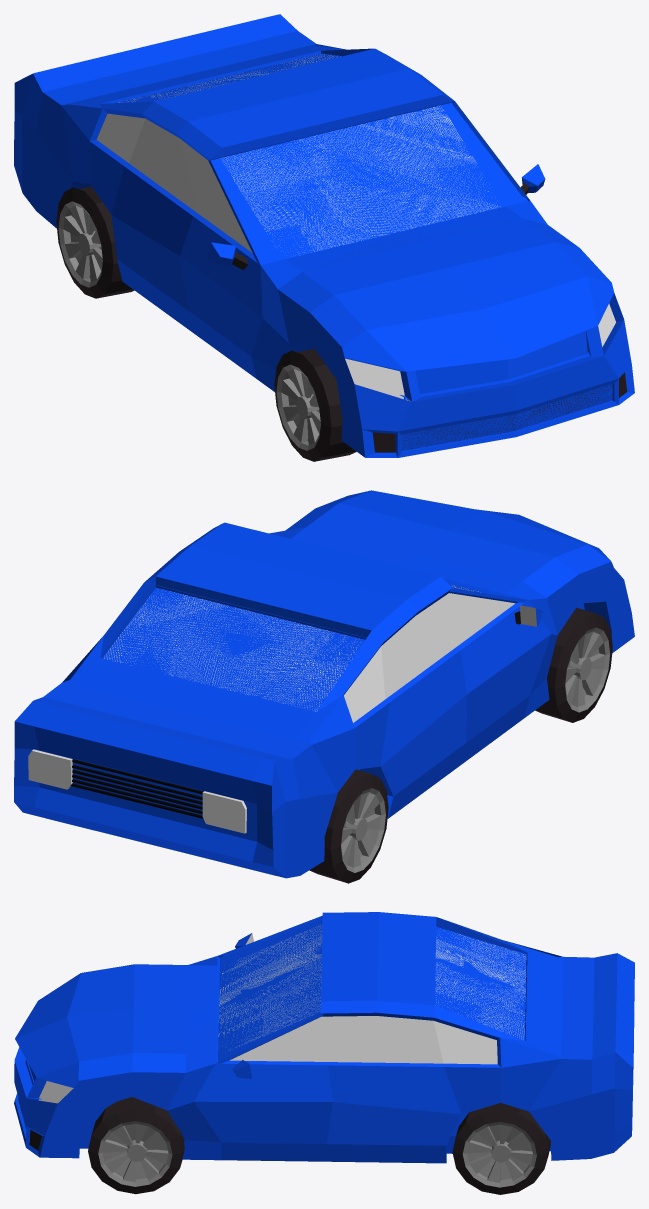
Rendered from low poly car1.fbx.
3 views of the same model, one above another, from view 1: azimuth 30°, elevation 25°; view 2: azimuth 150°, elevation 25°; view 3: azimuth 270°, elevation 25° (orthographic). The views are drawn at different scales.
Parts seen in each view (by area): view 1: car, front wheels, front wheels.001; view 2: car, front wheels, front wheels.001, Plane.001, Plane.002; view 3: car, front wheels.002, front wheels.003.
Part boxes in pixels (x1,y1,x2,y2): car: [14, 14, 634, 457]; front wheels: [274, 349, 356, 461]; front wheels.001: [56, 186, 134, 298]; car: [14, 490, 634, 878]; front wheels: [535, 607, 612, 722]; front wheels.001: [309, 769, 388, 883]; Plane.001: [202, 791, 246, 833]; Plane.002: [28, 749, 72, 789]; car: [14, 912, 634, 1163]; front wheels.002: [88, 1097, 184, 1194]; front wheels.003: [452, 1103, 550, 1194].
Size of the model in its own units: 226 by 144 by 444.
